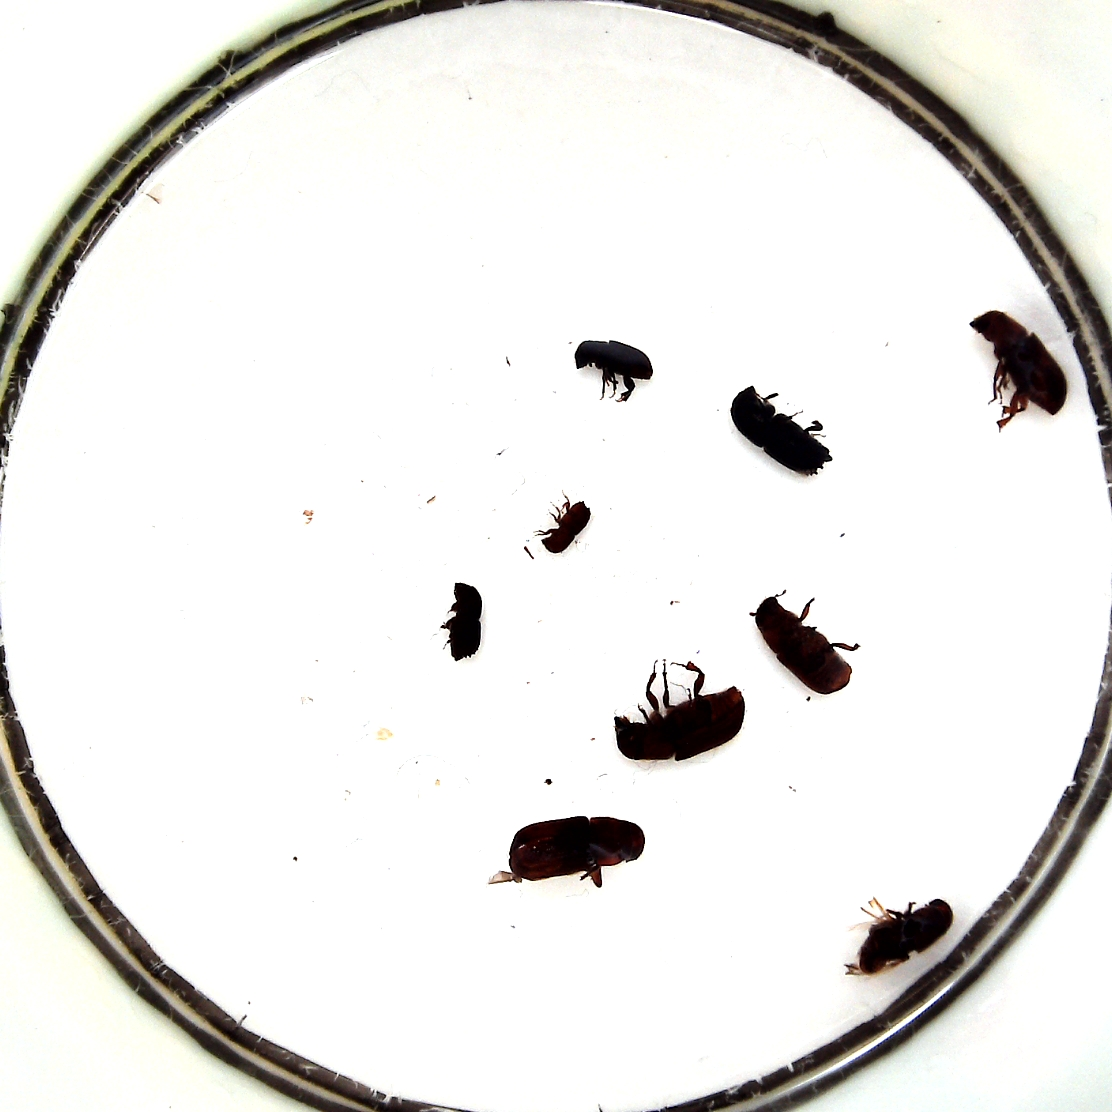Boerner: (728, 385, 836, 478)
Leconte: (617, 660, 747, 766), (968, 308, 1071, 434), (752, 592, 861, 702), (501, 815, 647, 886), (842, 892, 956, 976)
Linnaeus: (442, 579, 484, 660)
acuminatus: (538, 494, 592, 553)
armandi: (573, 334, 656, 402)
